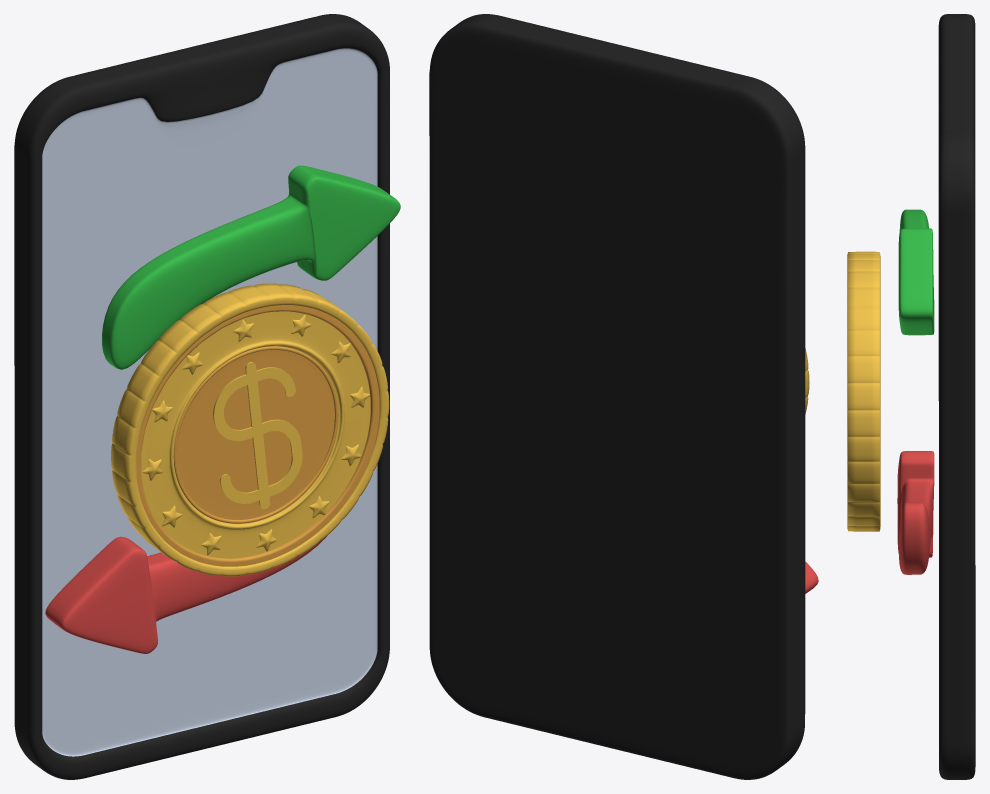
The model's file is money-transfer-3d-animated-icon-1651895872766.glb.
3 renders of one model, left to right at view 1: azimuth 30°, elevation 25°; view 2: azimuth 150°, elevation 25°; view 3: azimuth 270°, elevation 25°, orthographic. The views are drawn at different scales.
Visible parts, largest first — view 1: Cube.011, Cylinder.001, Plane, Plane.001, Curve.002; view 2: Cube.011; view 3: Cube.011, Cylinder.001, Plane.001, Plane.
Boxes of the visible parts, left/top/right/bottom form: Cube.011: left=14, top=14, right=389, bottom=779; Cylinder.001: left=111, top=283, right=389, bottom=576; Plane: left=102, top=165, right=400, bottom=369; Plane.001: left=45, top=536, right=326, bottom=653; Curve.002: left=213, top=362, right=302, bottom=509; Cube.011: left=429, top=14, right=805, bottom=779; Cube.011: left=938, top=14, right=975, bottom=779; Cylinder.001: left=847, top=251, right=880, bottom=531; Plane.001: left=897, top=451, right=934, bottom=574; Plane: left=898, top=209, right=934, bottom=335.
Size of the model in its own units: 1.26 by 2.3 by 0.4163.
